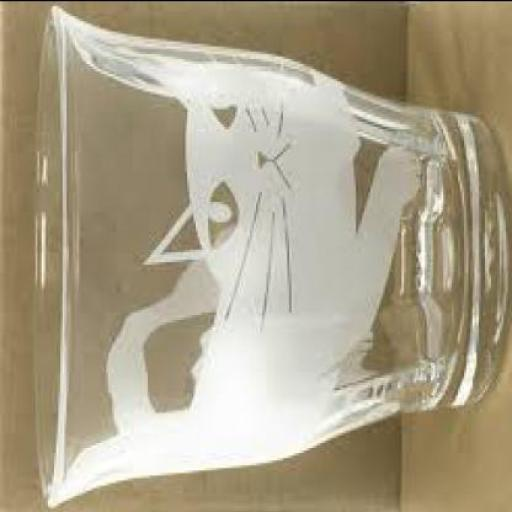glass: (35, 10, 510, 509)
